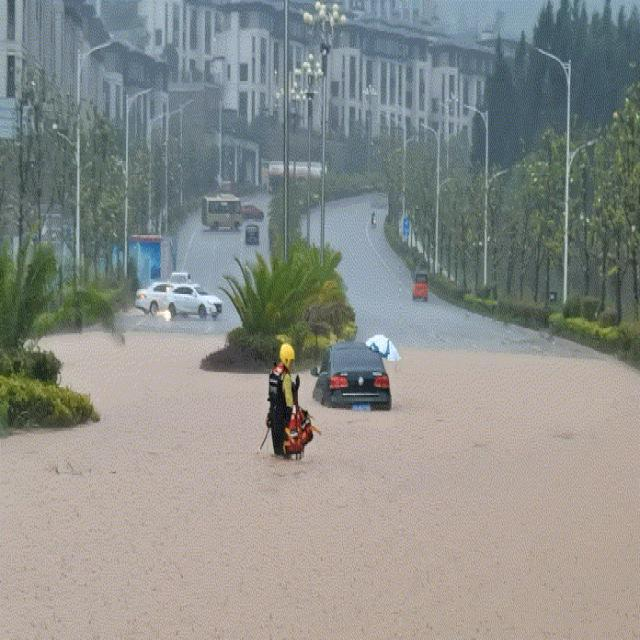rescuer: (257, 341, 319, 467)
